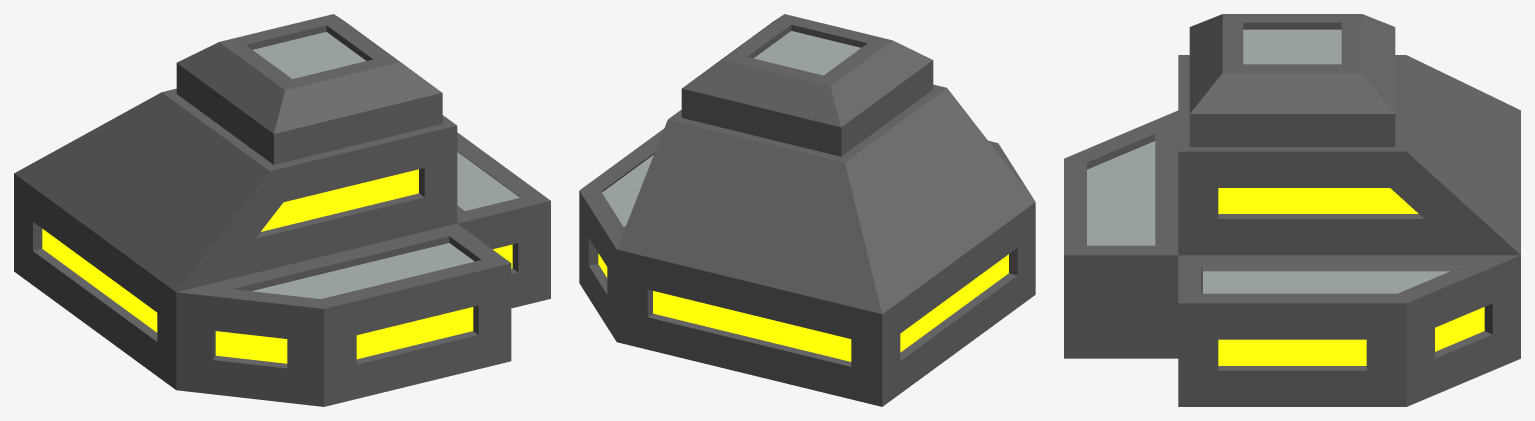
The picture shows the model from 3 angles, left to right: view 1: azimuth 30°, elevation 25°; view 2: azimuth 150°, elevation 25°; view 3: azimuth 270°, elevation 25°; orthographic projection. The views are drawn at different scales.
Parts seen in each view (by area): view 1: base; view 2: base; view 3: base.
Boxes of the visible parts, x1,y1,x2,y2 form: base: [14, 14, 550, 406]; base: [579, 14, 1035, 406]; base: [1064, 14, 1520, 406].
Size of the model in its own units: 400 by 258 by 400.
